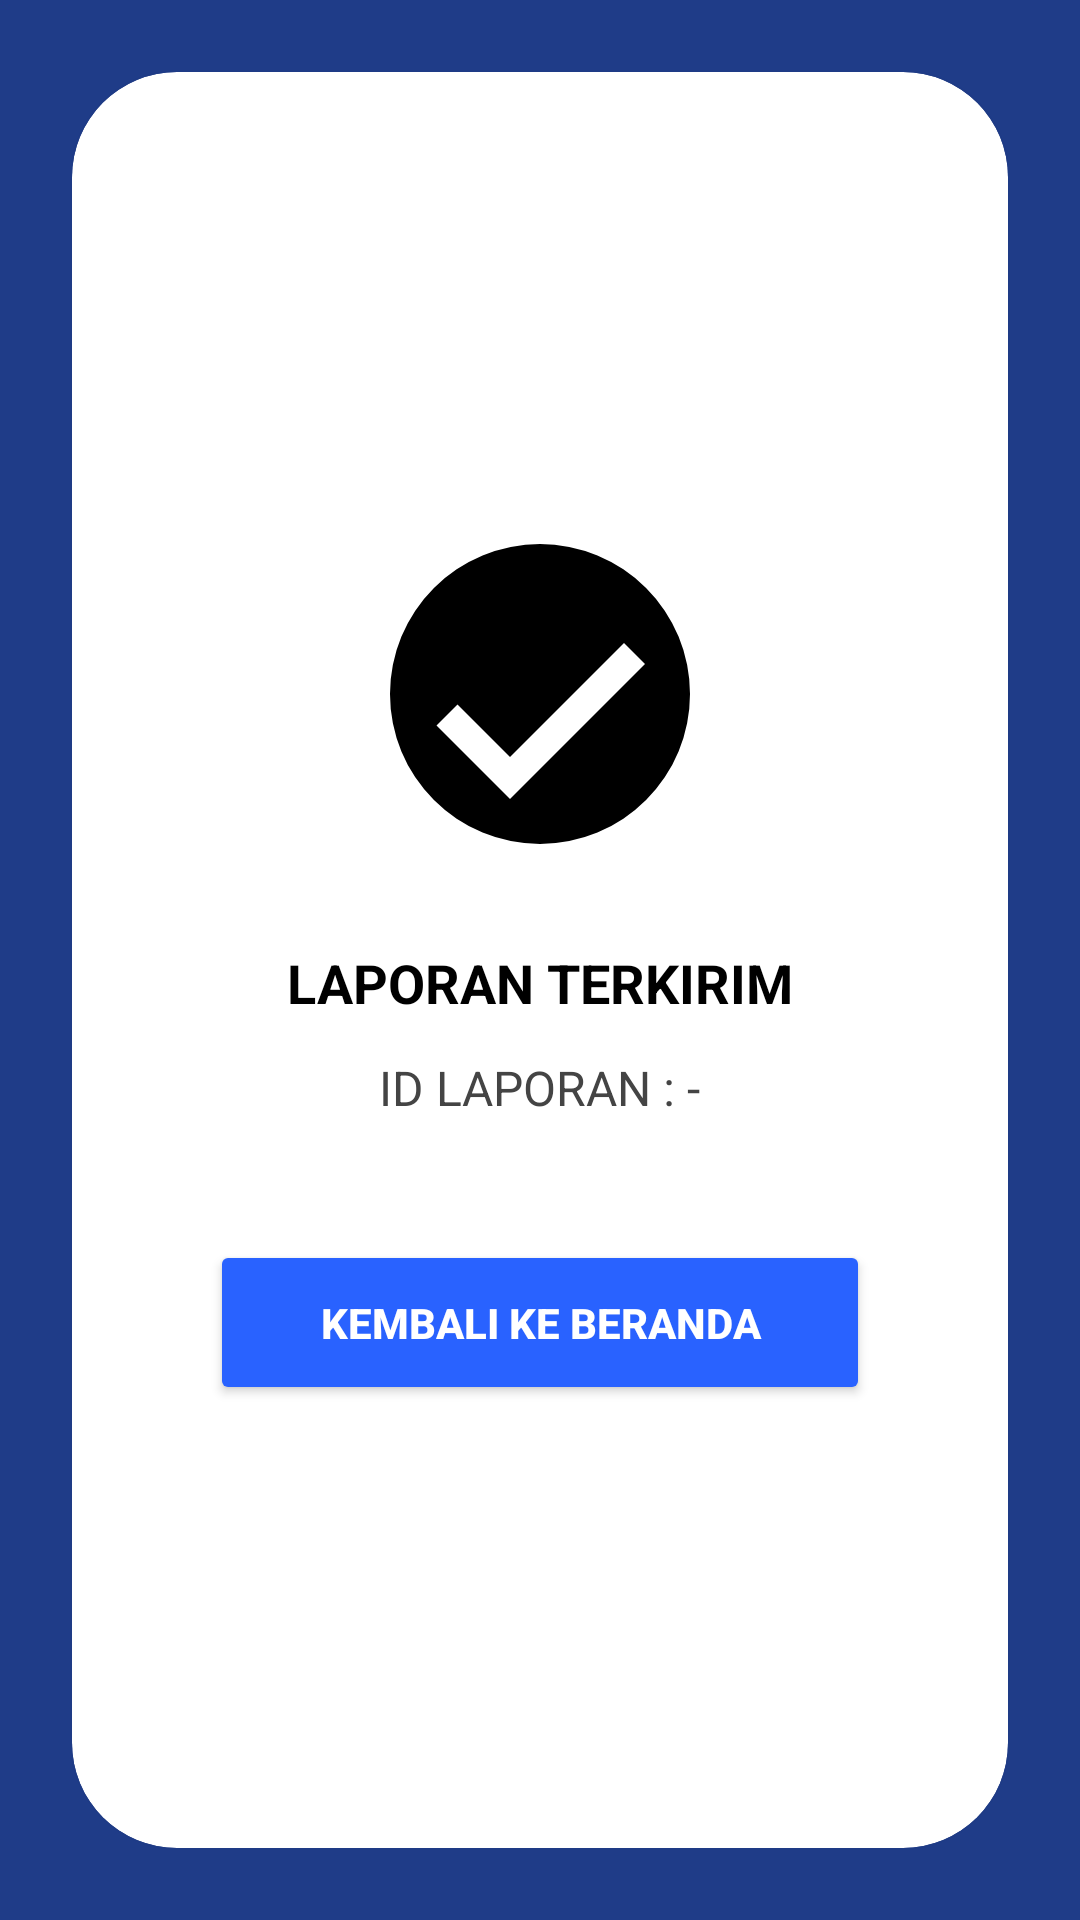

Screen size 1080×1920. Icon name, then its center in pixels as [x,y]:
Success: [540,694]
